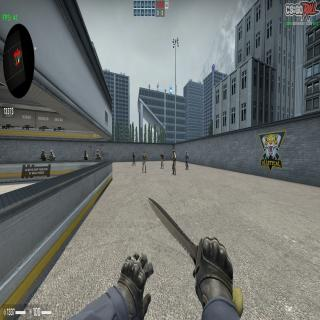CT-Body: (171, 150, 177, 175), (47, 150, 55, 161), (185, 151, 189, 170), (95, 150, 101, 161), (40, 150, 46, 161), (132, 151, 136, 166), (83, 150, 88, 160)
CT-Head: (172, 150, 175, 155), (41, 150, 44, 154), (50, 150, 53, 154), (97, 150, 99, 154), (186, 150, 188, 154), (85, 150, 86, 155), (133, 151, 134, 154)
T-Body: (142, 151, 146, 173), (160, 151, 164, 169)
T-Head: (143, 151, 145, 155), (161, 151, 163, 155)
